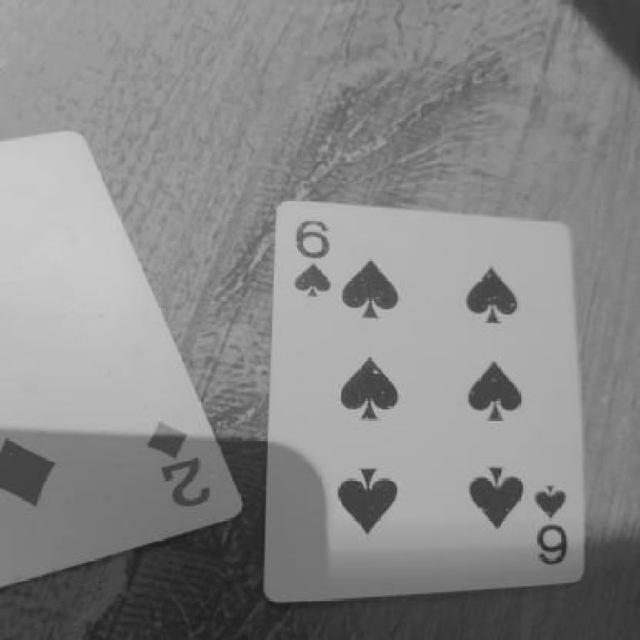2D: (144, 408, 228, 517)
6S: (267, 220, 344, 308)
